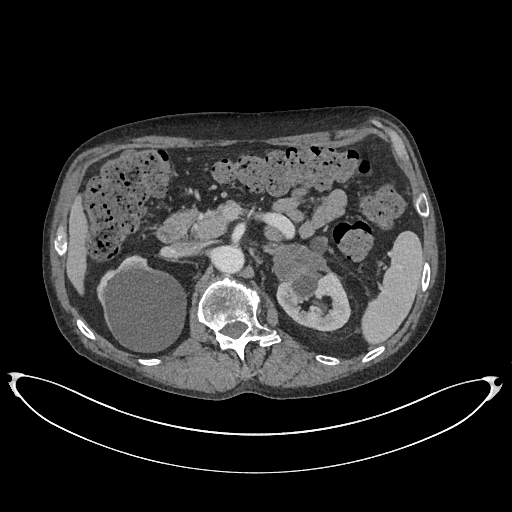Lesion: (271, 242, 332, 280)
